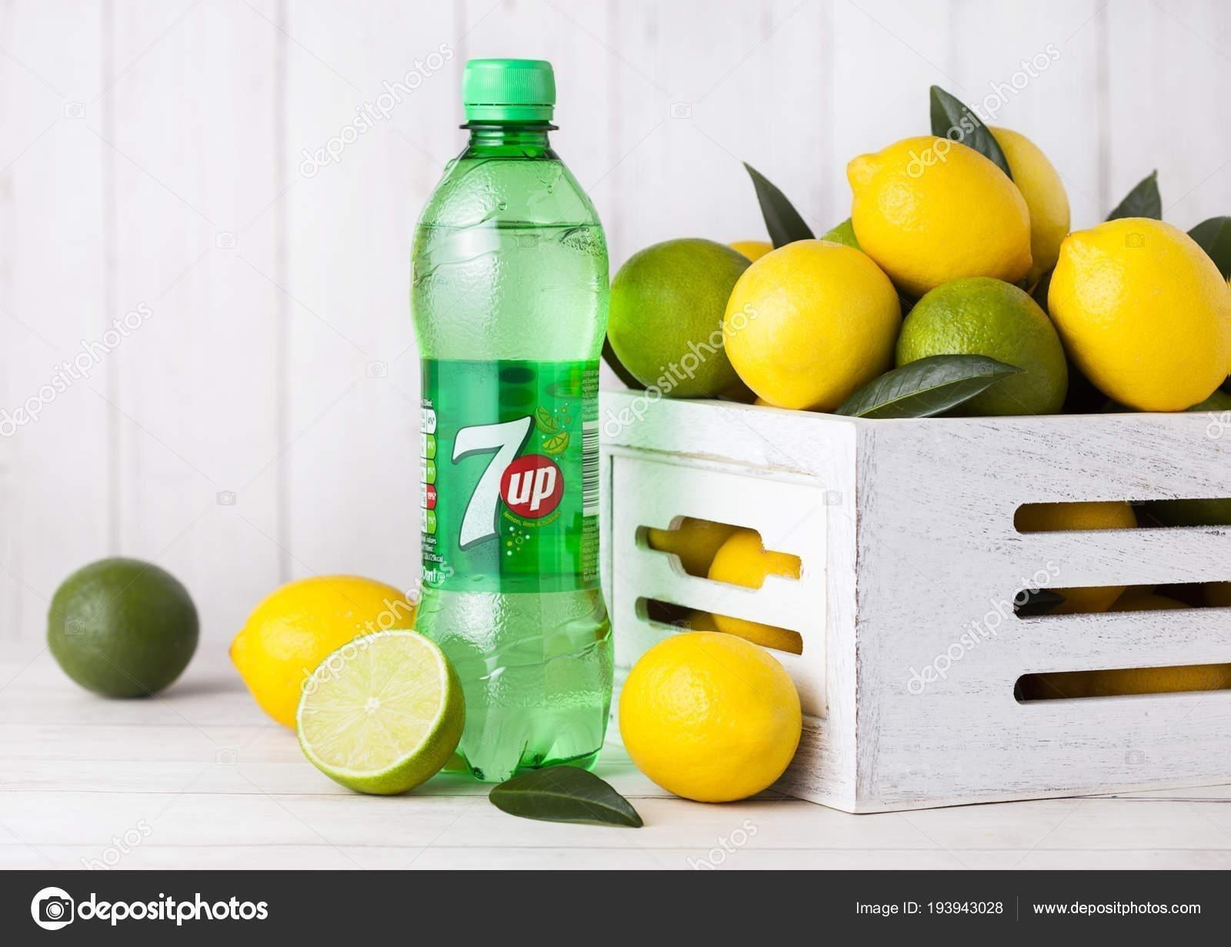bottle-plastic: (398, 48, 635, 787)
